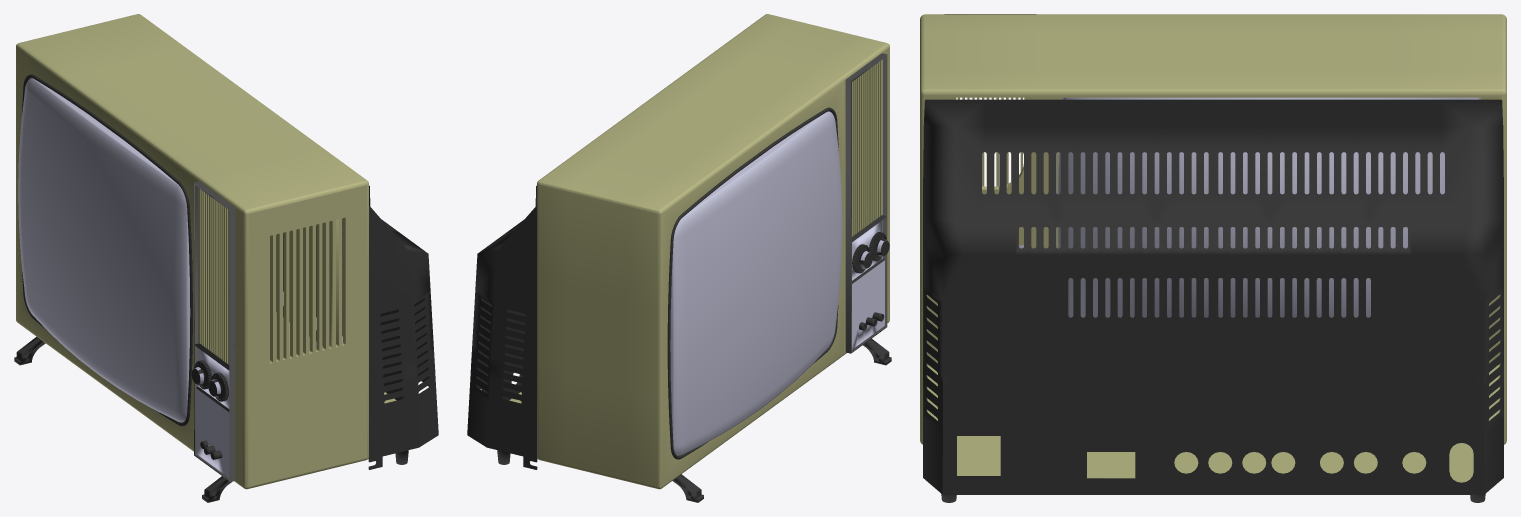
File: monitortelevision4.obj
3 renders of one model, left to right at view 1: azimuth 30°, elevation 25°; view 2: azimuth 150°, elevation 25°; view 3: azimuth 270°, elevation 25°, orthographic. The views are drawn at different scales.
Parts seen in each view (by area): view 1: tv7001, tv7002, tv7035, tv7003, tv7004, tv7038, tv7011; view 2: tv7001, tv7002, tv7035, tv7003, tv7004, tv7038, tv7011; view 3: tv7035, tv7039, tv7001, tv7002, tv7024.
Boxes of the visible parts, x1,y1,x2,y2 form: tv7001: (16,14,368,489); tv7002: (18,78,190,422); tv7035: (276,185,438,469); tv7003: (194,181,235,481); tv7004: (196,388,229,477); tv7038: (21,74,192,426); tv7011: (198,348,229,408); tv7001: (537,14,889,489); tv7002: (670,111,842,455); tv7035: (467,185,537,469); tv7003: (845,53,887,353); tv7004: (852,260,884,349); tv7038: (667,107,838,459); tv7011: (852,220,882,280); tv7035: (923,99,1503,494); tv7039: (942,375,1484,494); tv7001: (920,14,1506,444); tv7002: (1057,97,1480,317); tv7024: (927,365,1499,482).
Bounding box in the file's own units: 22.41 × 29.06 × 40.41.
